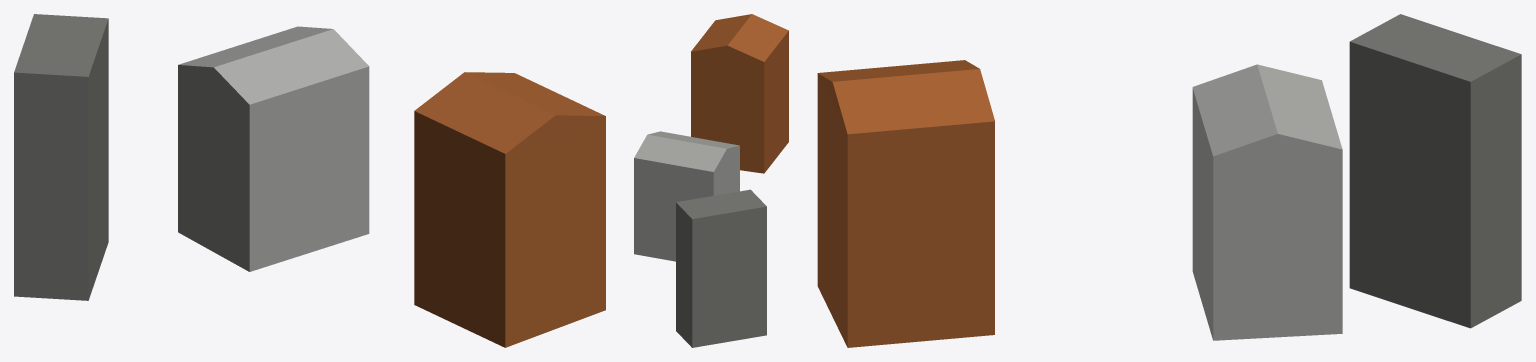
Rendered from near-15-27367-14858.b103c290.glb.
The picture shows the model from 3 angles, left to right: view 1: azimuth 30°, elevation 25°; view 2: azimuth 150°, elevation 25°; view 3: azimuth 270°, elevation 25°; orthographic projection. The views are drawn at different scales.
Bounding box in the file's own units: 37.2 × 31.37 × 60.45.
